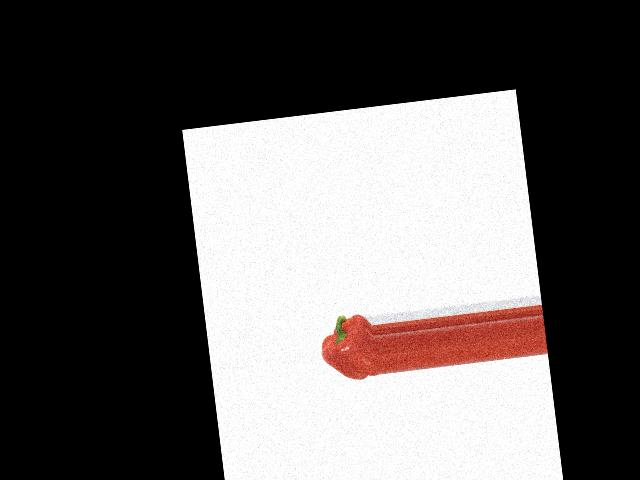bell_pepper: (316, 303, 379, 391)
